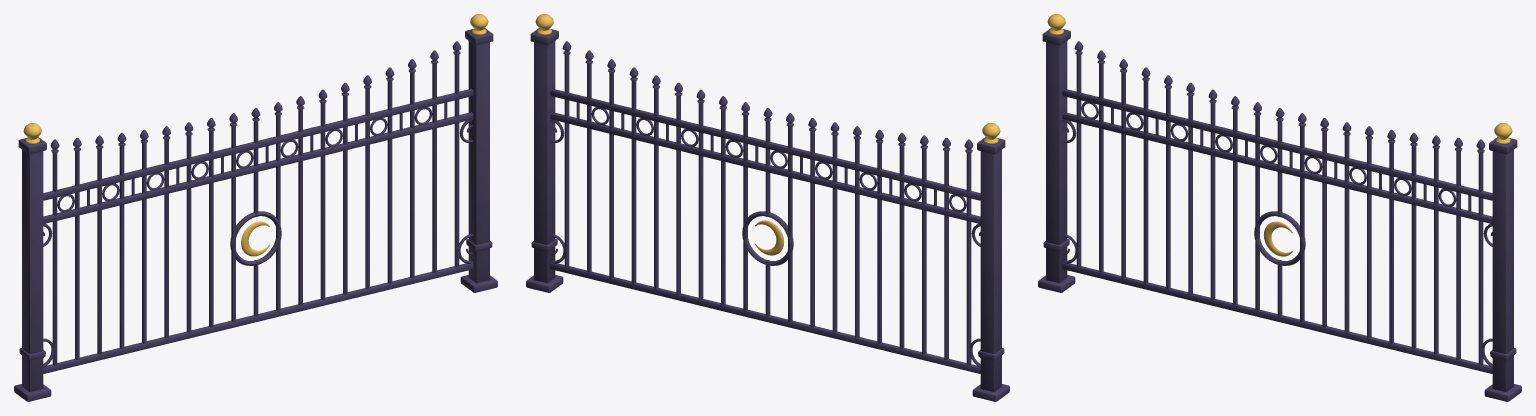
File: verja.glb
3 renders of one model, left to right at view 1: azimuth 30°, elevation 25°; view 2: azimuth 150°, elevation 25°; view 3: azimuth 330°, elevation 25°, orthographic.
Visible parts, largest first — view 1: iron-fence_body; view 2: iron-fence_body; view 3: iron-fence_body.
Boxes of the visible parts, x1,y1,x2,y2 form: iron-fence_body: [14, 14, 497, 401]; iron-fence_body: [526, 14, 1009, 401]; iron-fence_body: [1038, 14, 1521, 401].
Size of the model in its own units: 2.53 by 1.39 by 0.13.
Materials: 1 (1 with a texture image).
